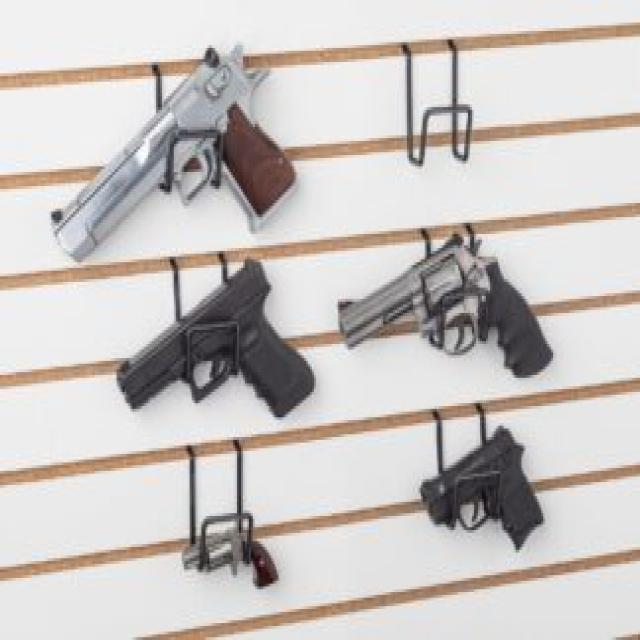HandGun: (57, 42, 298, 265), (340, 231, 555, 381), (119, 262, 316, 420), (421, 429, 547, 553)
